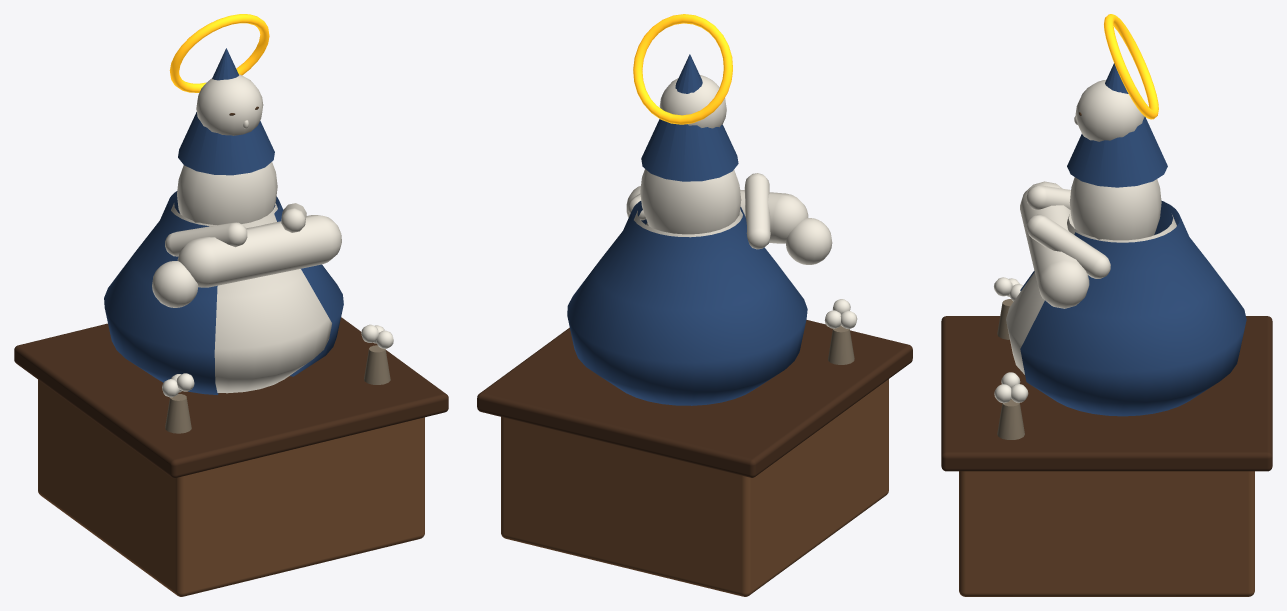
File: pieta.glb
3 views of the same model, side by side, from view 1: azimuth 30°, elevation 25°; view 2: azimuth 150°, elevation 25°; view 3: azimuth 270°, elevation 25° (orthographic). The views are drawn at different scales.
Visible parts, largest first — view 1: Pedestal, PedestalTop, Mantle, Robe, ChristBody, Torso, Veil, Head, object 11, Arm (×2), ChristHead, object 16 (+1 smaller); view 2: Pedestal, Mantle, PedestalTop, Veil, Torso, object 11, Head, ChristBody, Arm, ChristHead, object 16; view 3: Pedestal, PedestalTop, Mantle, Veil, Torso, ChristBody, Arm (×2), Head, Robe, object 11, object 20.
Part boxes in pixels (x1=…): Pedestal: x1=38, y1=380, x2=424, y2=596; PedestalTop: x1=14, y1=317, x2=448, y2=478; Mantle: x1=104, y1=191, x2=343, y2=394; Robe: x1=171, y1=203, x2=331, y2=393; ChristBody: x1=177, y1=215, x2=341, y2=287; Torso: x1=177, y1=162, x2=277, y2=224; Veil: x1=178, y1=48, x2=274, y2=175; Head: x1=196, y1=74, x2=263, y2=135; object 11: x1=169, y1=14, x2=269, y2=92; Arm (×2): x1=165, y1=203, x2=306, y2=256; ChristHead: x1=152, y1=261, x2=198, y2=307; object 16: x1=165, y1=394, x2=191, y2=433; Pedestal: x1=501, y1=379, x2=888, y2=596; Mantle: x1=567, y1=201, x2=807, y2=405; PedestalTop: x1=477, y1=320, x2=912, y2=477; Veil: x1=641, y1=54, x2=738, y2=181; Torso: x1=640, y1=169, x2=741, y2=234; object 11: x1=633, y1=14, x2=732, y2=124; Head: x1=659, y1=75, x2=726, y2=128; ChristBody: x1=626, y1=186, x2=808, y2=243; Arm: x1=744, y1=173, x2=770, y2=249; ChristHead: x1=785, y1=218, x2=832, y2=264; object 16: x1=828, y1=325, x2=854, y2=364; Pedestal: x1=959, y1=471, x2=1254, y2=596; PedestalTop: x1=941, y1=316, x2=1272, y2=471; Mantle: x1=1020, y1=200, x2=1246, y2=416; Veil: x1=1067, y1=63, x2=1167, y2=187; Torso: x1=1069, y1=177, x2=1161, y2=240; ChristBody: x1=1020, y1=181, x2=1089, y2=308; Arm (×2): x1=1026, y1=185, x2=1110, y2=278; Head: x1=1075, y1=80, x2=1144, y2=141; Robe: x1=1006, y1=214, x2=1176, y2=374; object 11: x1=1104, y1=14, x2=1158, y2=119; object 20: x1=997, y1=399, x2=1024, y2=439.
Size of the model in its own units: 1.9 by 3.27 by 1.9.
